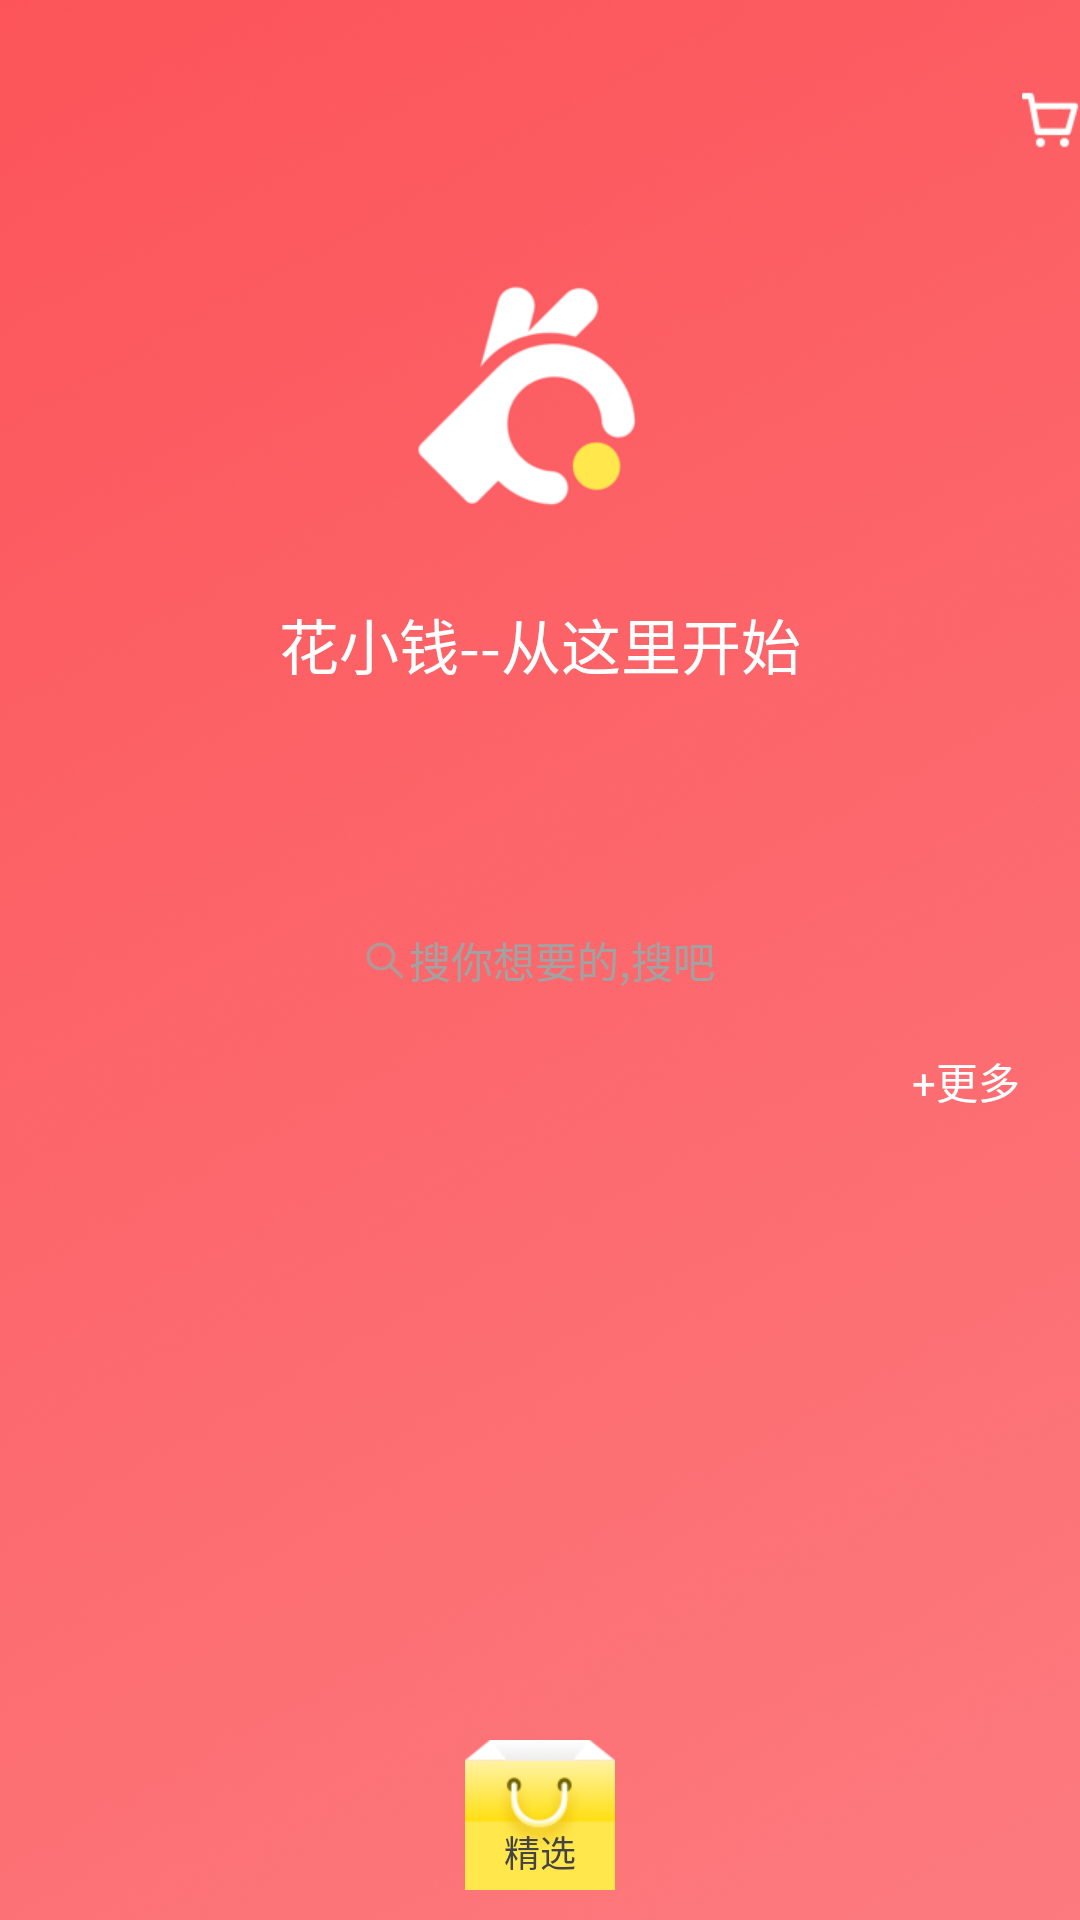

Locate icon controls on the screen. Image size 1080px×1920px, boxes as (x1, y1, x2, y2).
cart: (1022, 92, 1078, 148)
